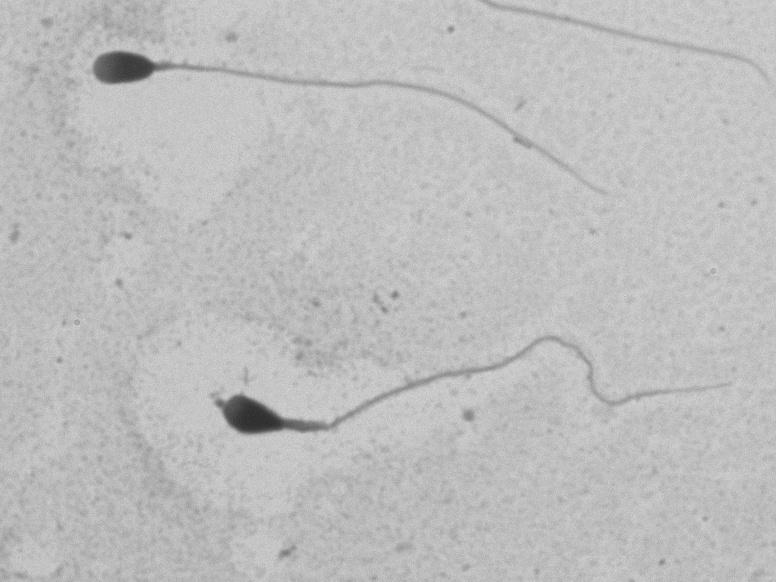Abnormal: (198, 293, 749, 510)
Normal: (70, 36, 619, 213)
